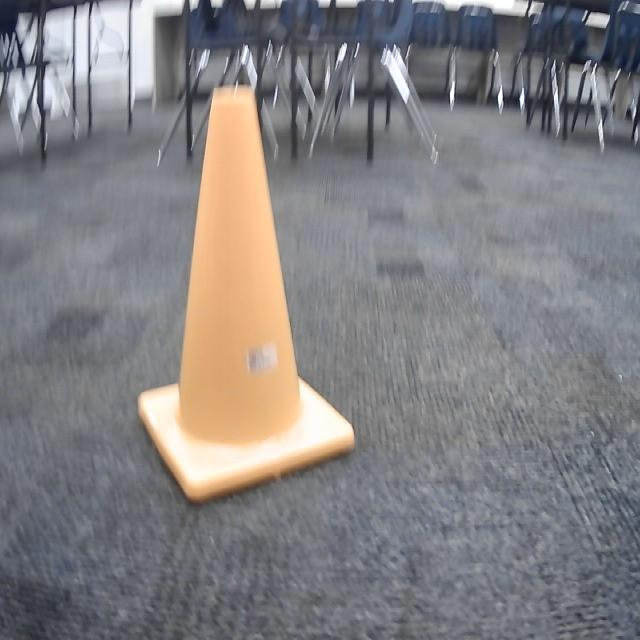cone: (136, 83, 356, 507)
